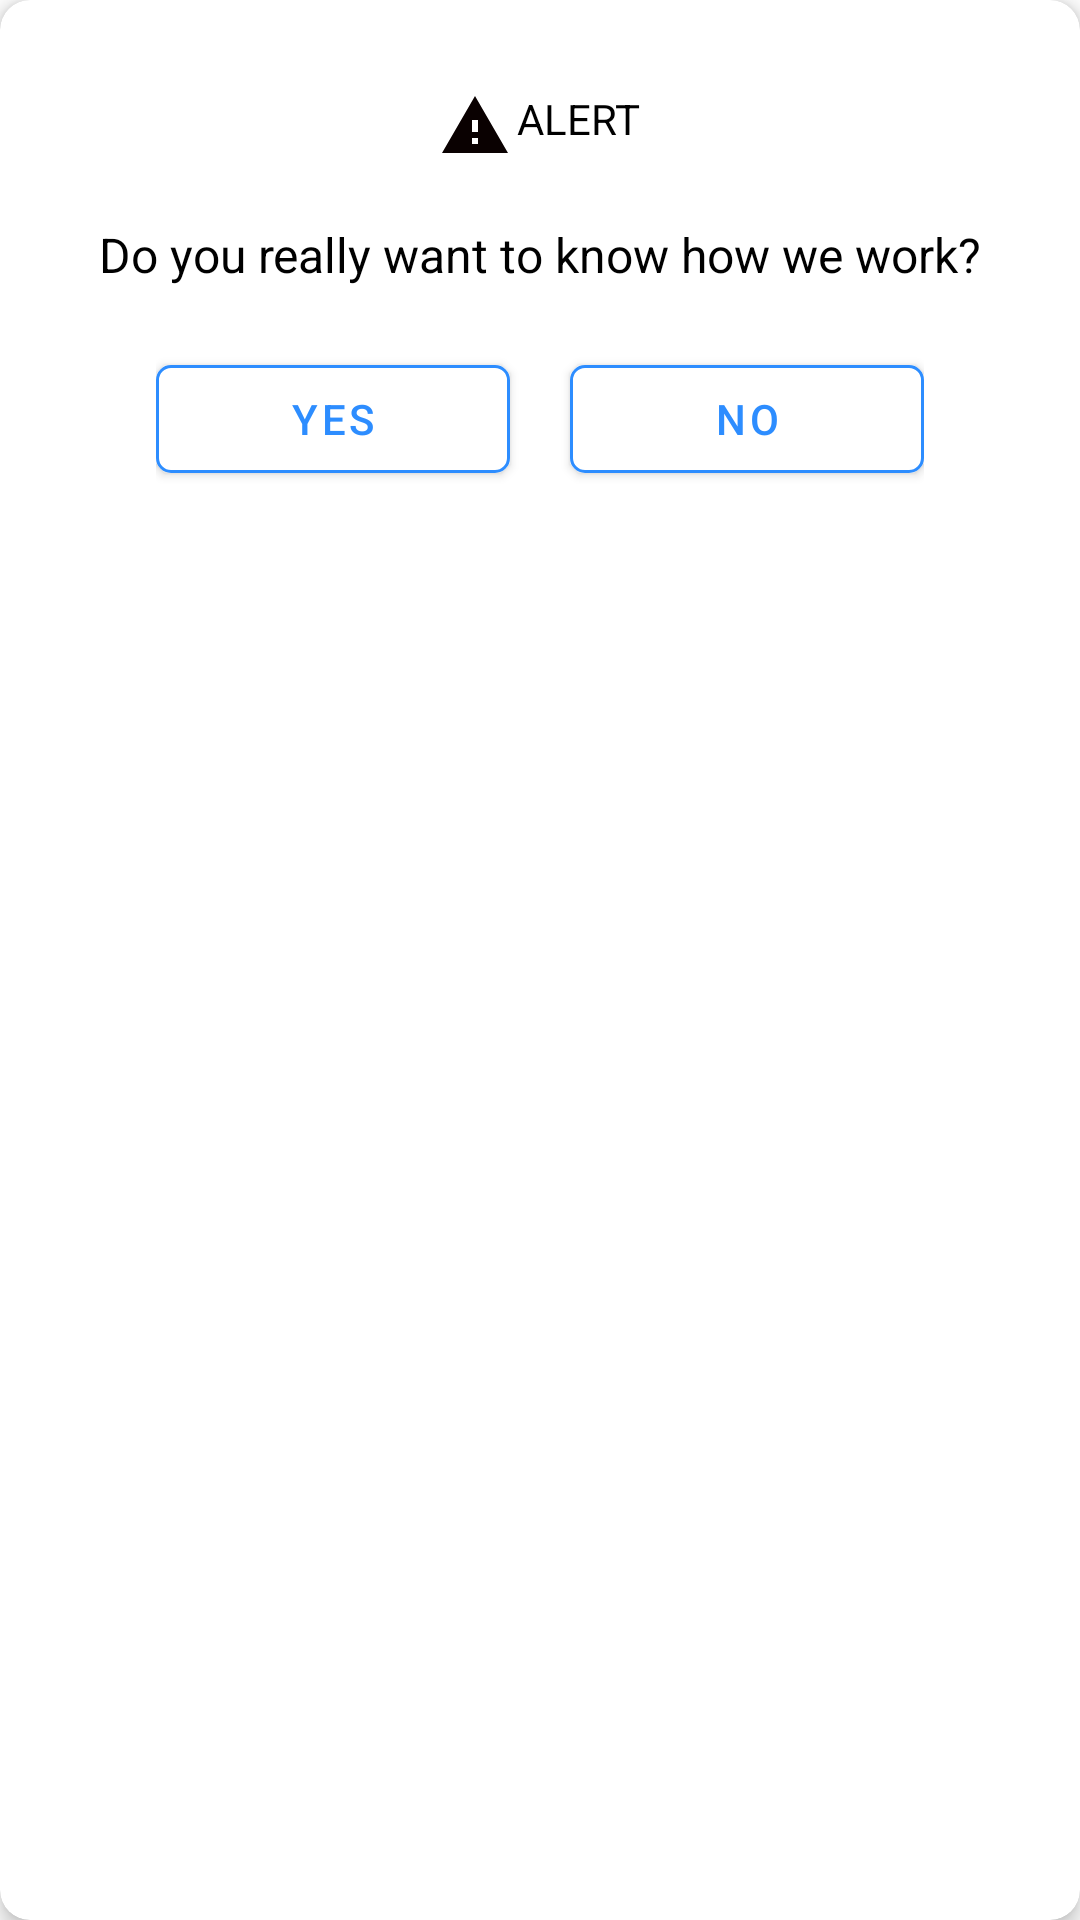

Icons on this 1080*1920 Android screen, each with the point to tap as (x=x, y=y):
warning: (x=475, y=124)
